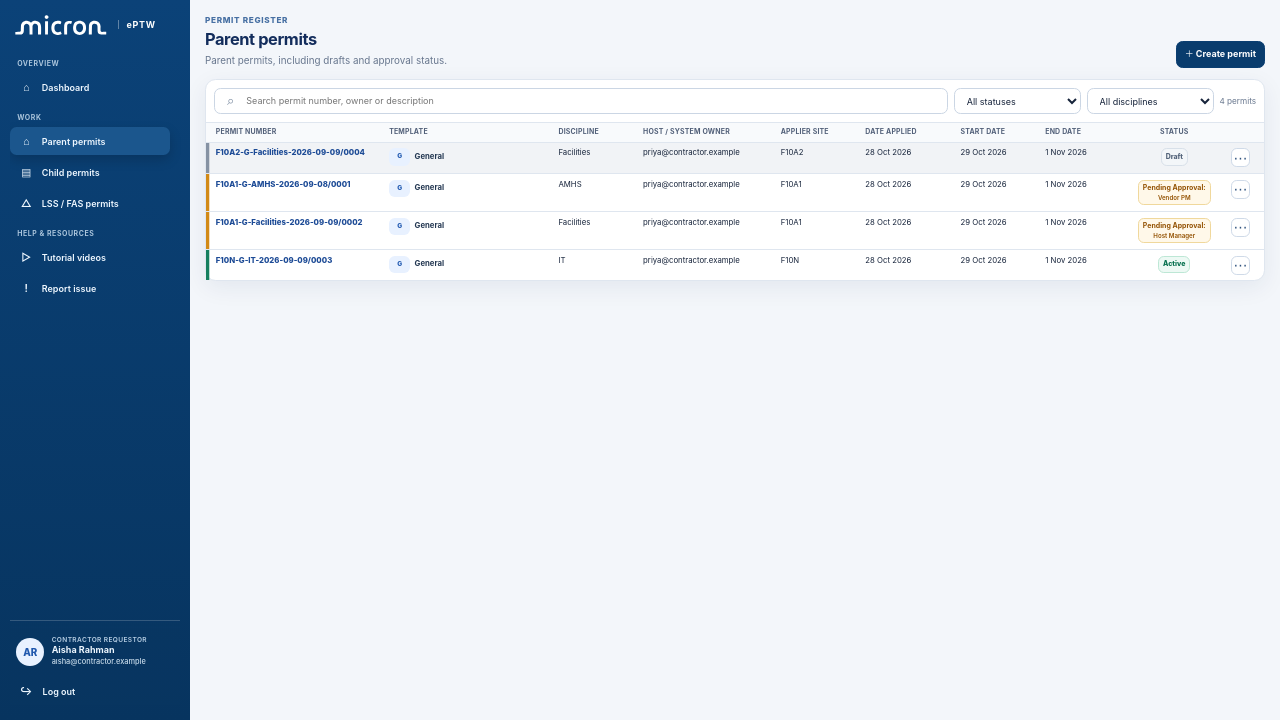
application shell › opens the permit row menu with icon-labelled actions
What coordinates should you click on to do the following:
click the heading named "Actions for F10A1-G-AMHS-2026-09-08/0001"
I would click on:
 (1241, 189)
Its box is [1231,180,1250,199].
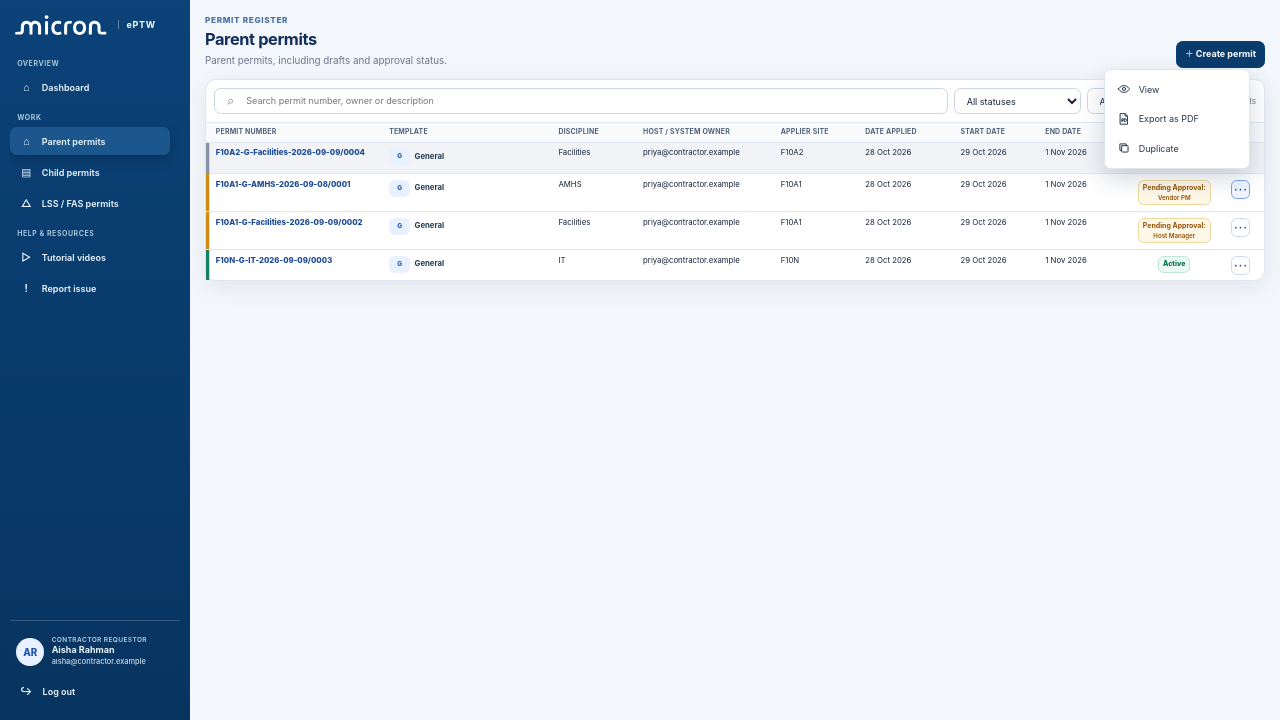
expect the link "View" is shown: met, box [1116,82,1160,96]
expect the button "Export as PDF" is shown: met, box [1110,104,1244,134]
expect the button "Duplicate" is shown: met, box [1110,134,1244,163]
